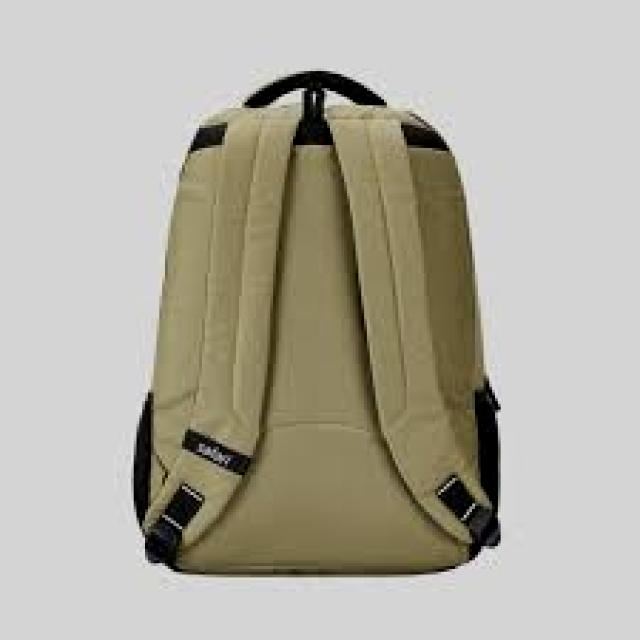backpack: (132, 70, 502, 576)
